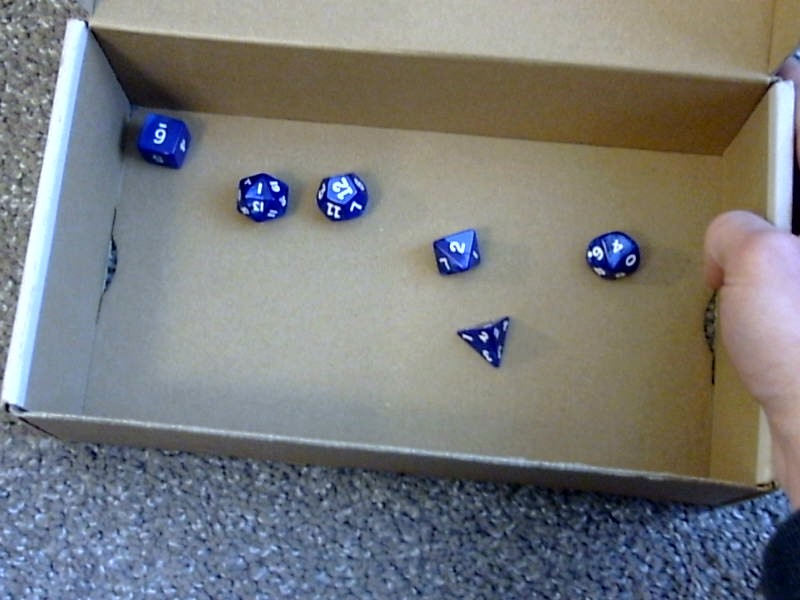d10 4: (581, 220, 641, 283)
d12 12: (313, 169, 368, 220)
d20 1: (233, 167, 289, 223)
d4 2: (453, 308, 510, 370)
d6 6: (135, 109, 191, 170)
d8 2: (427, 223, 483, 276)
